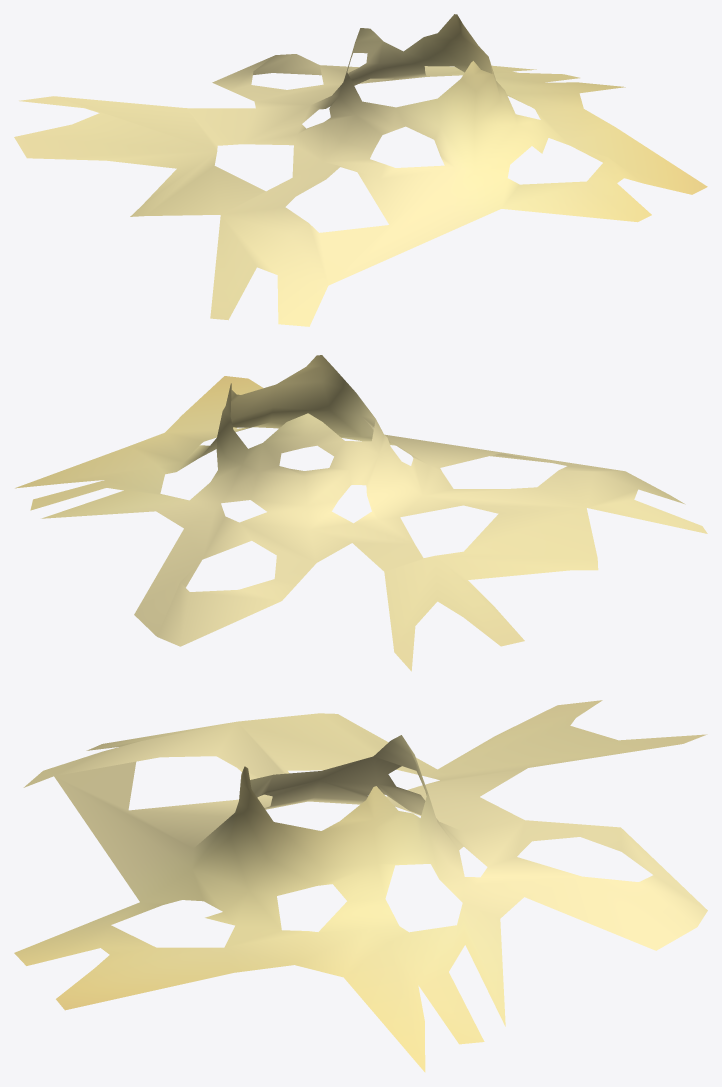
The model's file is Egg_Web.003.fbx.
3 views of the same model, one above another, from view 1: azimuth 30°, elevation 25°; view 2: azimuth 150°, elevation 25°; view 3: azimuth 270°, elevation 25° (orthographic). The views are drawn at different scales.
Visible parts, largest first — view 1: Egg_Web.003; view 2: Egg_Web.003; view 3: Egg_Web.003.
Part boxes in pixels (x1,y1,x2,y2): Egg_Web.003: [14, 14, 707, 326]; Egg_Web.003: [15, 355, 707, 671]; Egg_Web.003: [14, 700, 707, 1072].
Size of the model in its own units: 8.57 by 2.11 by 7.45.
